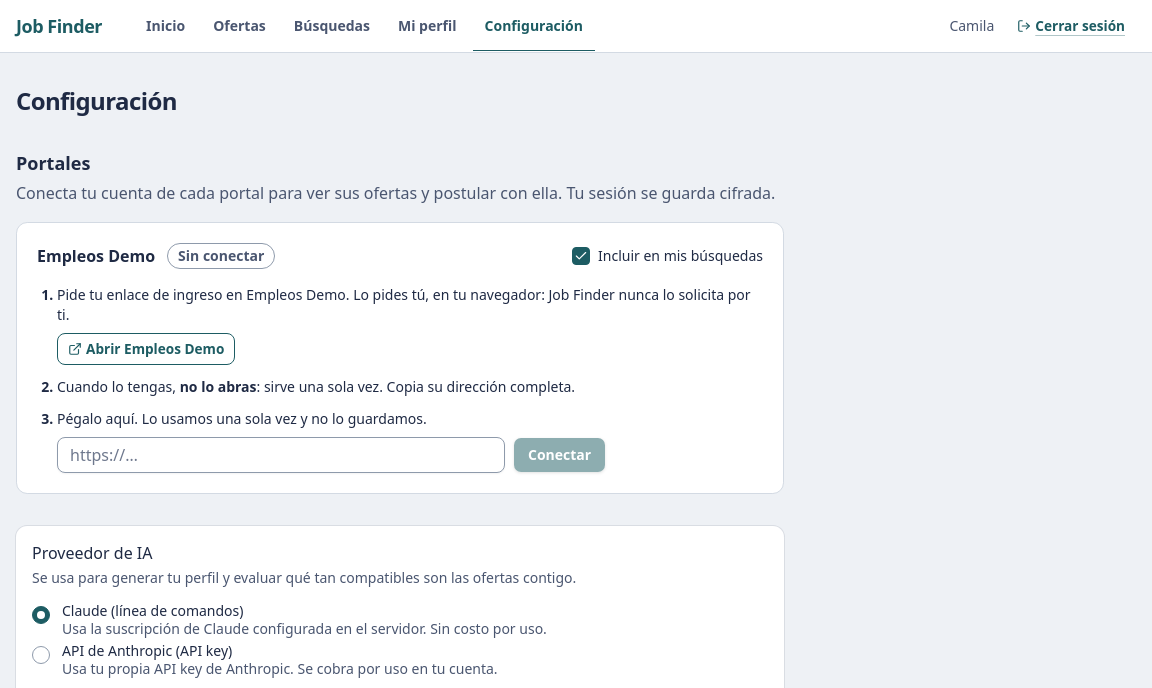
Configuración: portales › conecta pegando el enlace mágico
Step 1. Type "http://localhost:4100/ingresar/enlace?token=abc" into the password field named "Enlace de ingreso de Empleos Demo" → [281, 455], box [57,437,505,473]
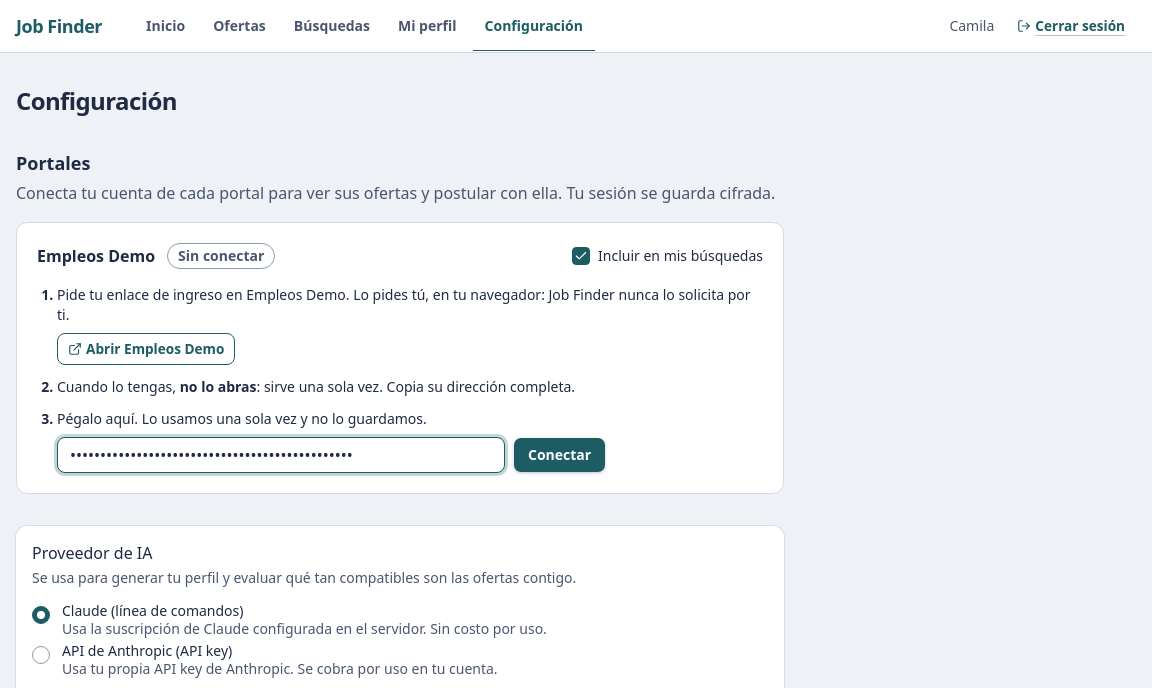
Step 2. Click the button "Conectar" → [560, 455], box [513,437,606,473]
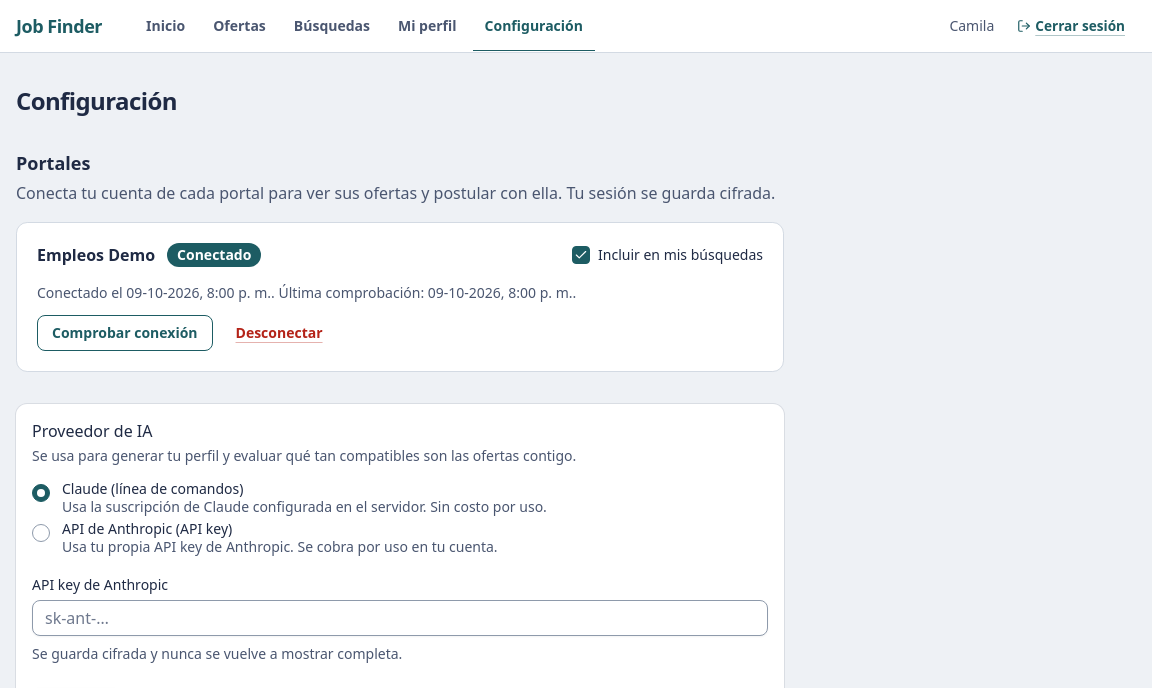
Expected: the text "Conectado" is shown, [167,243,261,267]
Expected: the button "Comprobar conexión" is shown, [37,315,212,351]
